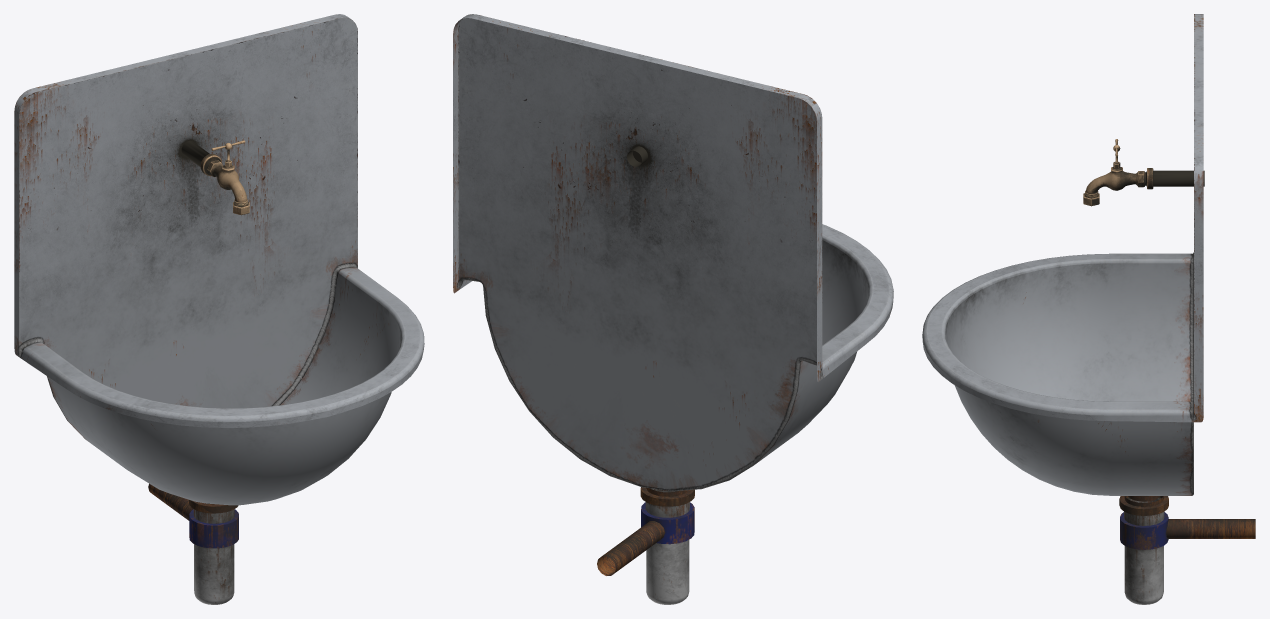
The model's file is sink_toilet_wc_-_14mb.glb.
The picture shows the model from 3 angles, left to right: view 1: azimuth 30°, elevation 25°; view 2: azimuth 150°, elevation 25°; view 3: azimuth 270°, elevation 25°; orthographic projection. The views are drawn at different scales.
Visible parts, largest first — view 1: Cylinder, WaterPipe; view 2: Cylinder; view 3: Cylinder, WaterPipe.
Part boxes in pixels (<box>): Cylinder: <box>14,14,424,604</box>; WaterPipe: <box>181,140,249,215</box>; Cylinder: <box>453,14,893,604</box>; Cylinder: <box>922,14,1255,604</box>; WaterPipe: <box>1083,139,1204,206</box>.
Size of the model in its own units: 1.15 by 1.7 by 1.
Materials: 1 (1 with a texture image).
